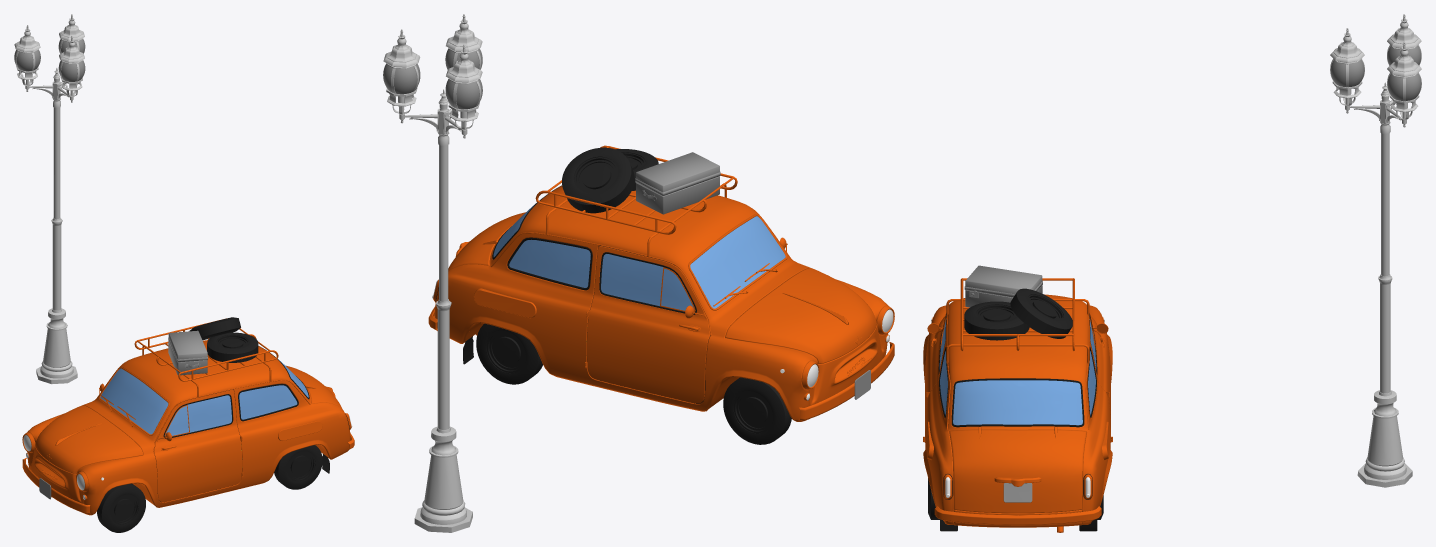
Rendered from car.obj.
The picture shows the model from 3 angles, left to right: view 1: azimuth 30°, elevation 25°; view 2: azimuth 150°, elevation 25°; view 3: azimuth 270°, elevation 25°; orthographic projection. The views are drawn at different scales.
Visible parts, largest first — view 1: car_body, door_left, hood, vintage_lantern_7_base, vintage_lantern_7, wheel_00, wheel_01, wheel_004, railings, glass_00, vintage_lantern_glass_7, chest_top (+5 smaller); view 2: car_body, door_right, hood, vintage_lantern_7_base, vintage_lantern_7, wheel_005, wheel_03, wheel_02, glass_01, chest_top, vintage_lantern_glass_7, railings (+5 smaller); view 3: car_body, back_door, vintage_lantern_7_base, vintage_lantern_7, wheel_005, wheel_004, rear_bumper, railings, chest_top, vintage_lantern_glass_7, door_right, door_left.
Boxes of the visible parts, bbox=[...] form: car_body: bbox=[22, 340, 351, 515]; door_left: bbox=[154, 389, 243, 502]; hood: bbox=[35, 405, 143, 473]; vintage_lantern_7_base: bbox=[25, 68, 77, 384]; vintage_lantern_7: bbox=[14, 14, 84, 219]; wheel_00: bbox=[97, 483, 145, 532]; wheel_01: bbox=[274, 445, 322, 489]; wheel_004: bbox=[207, 332, 258, 362]; railings: bbox=[134, 318, 278, 397]; glass_00: bbox=[187, 395, 231, 432]; vintage_lantern_glass_7: bbox=[14, 38, 85, 81]; chest_top: bbox=[168, 330, 207, 362]; car_body: bbox=[433, 185, 894, 421]; door_right: bbox=[585, 246, 710, 403]; hood: bbox=[725, 268, 876, 363]; vintage_lantern_7_base: bbox=[399, 89, 472, 532]; vintage_lantern_7: bbox=[383, 14, 482, 301]; wheel_005: bbox=[562, 147, 634, 213]; wheel_03: bbox=[723, 377, 791, 444]; wheel_02: bbox=[476, 323, 542, 384]; glass_01: bbox=[601, 254, 663, 306]; chest_top: bbox=[635, 152, 720, 195]; vintage_lantern_glass_7: bbox=[383, 48, 482, 109]; railings: bbox=[535, 145, 737, 256]; car_body: bbox=[923, 294, 1112, 531]; back_door: bbox=[949, 426, 1086, 513]; vintage_lantern_7_base: bbox=[1345, 82, 1412, 487]; vintage_lantern_7: bbox=[1330, 14, 1421, 276]; wheel_005: bbox=[1010, 288, 1072, 338]; wheel_004: bbox=[964, 301, 1029, 340]; rear_bumper: bbox=[934, 506, 1101, 525]; railings: bbox=[946, 278, 1089, 363]; chest_top: bbox=[964, 265, 1042, 297]; vintage_lantern_glass_7: bbox=[1330, 46, 1421, 100]; door_right: bbox=[1089, 314, 1112, 440]; door_left: bbox=[923, 314, 946, 440].
Size of what is drawn, in the model's own units: 3.29 by 3.83 by 3.86.
